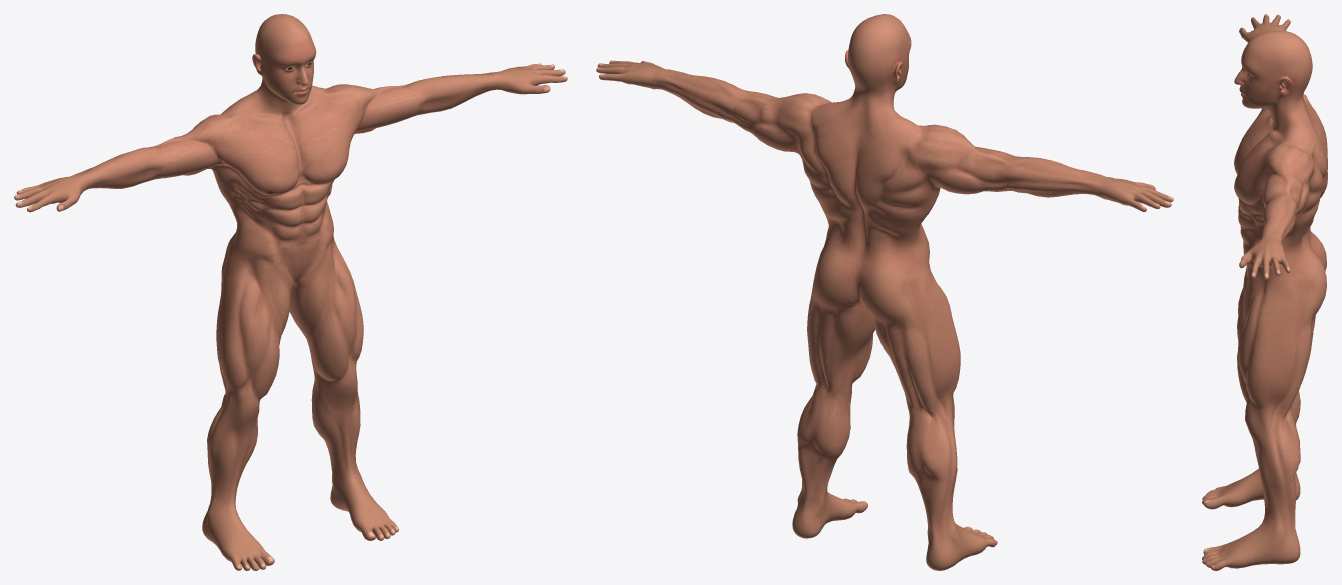
File: body.glb
The picture shows the model from 3 angles, left to right: view 1: azimuth 30°, elevation 25°; view 2: azimuth 150°, elevation 25°; view 3: azimuth 270°, elevation 25°; orthographic projection. The views are drawn at different scales.
Visible parts, largest first — view 1: body_low__Body_Low_SP_blinn1SG1_0; view 2: body_low__Body_Low_SP_blinn1SG1_0; view 3: body_low__Body_Low_SP_blinn1SG1_0.
Part boxes in pixels (x1,y1,x2,y2): body_low__Body_Low_SP_blinn1SG1_0: (14, 14, 567, 570); body_low__Body_Low_SP_blinn1SG1_0: (596, 14, 1173, 570); body_low__Body_Low_SP_blinn1SG1_0: (1202, 14, 1327, 570).
Size of the model in its own units: 0.1994 by 0.1771 by 0.0404.
Materials: 3 (2 with a texture image).
